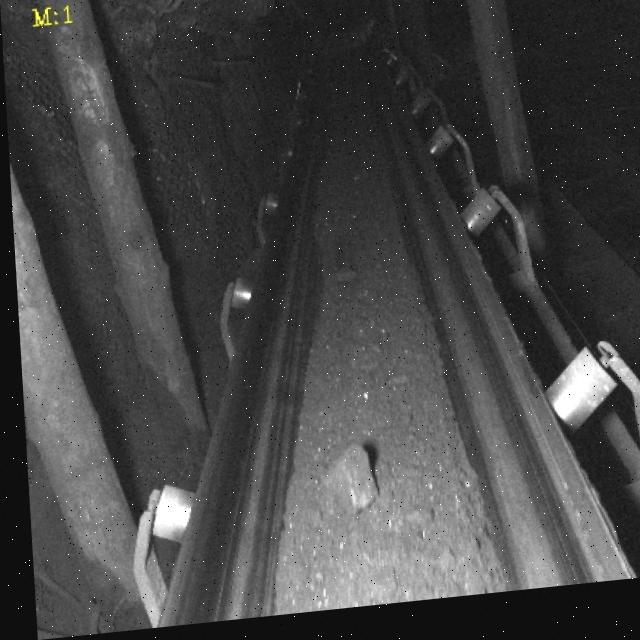large_sized_coal: (314, 450, 374, 524)
